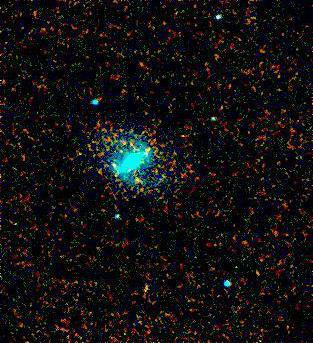star: (125, 161, 155, 191)
